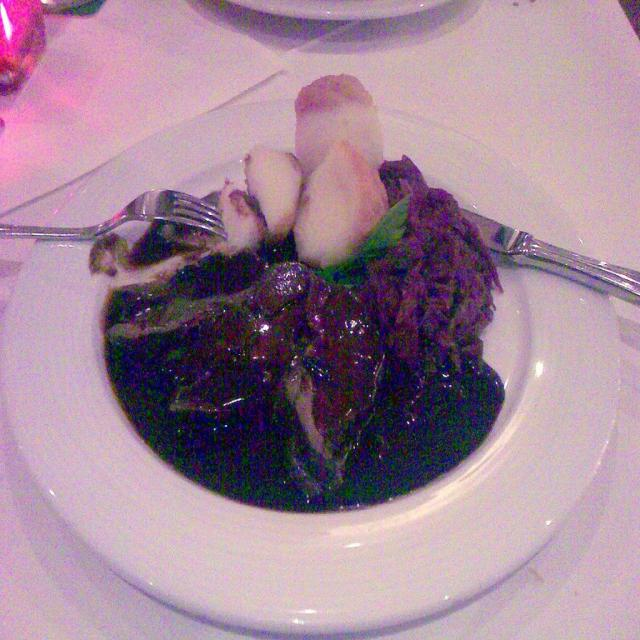non-organic waste: (6, 122, 608, 618)
